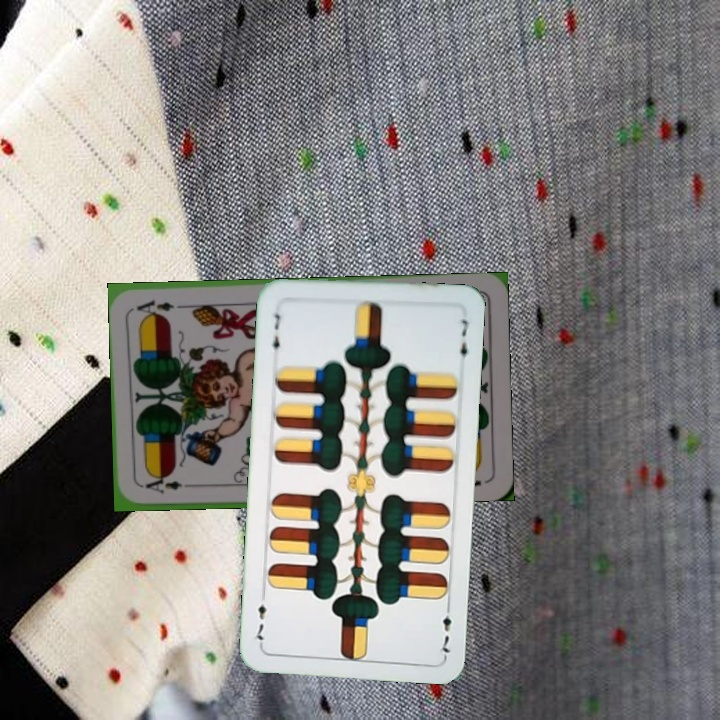E7: (435, 599, 454, 658), (267, 308, 283, 359)
EA: (138, 475, 197, 497)
